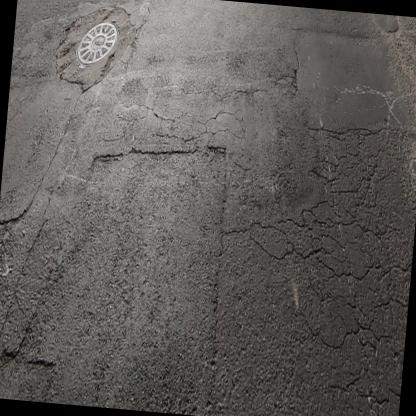manholes: (69, 6, 124, 88)
